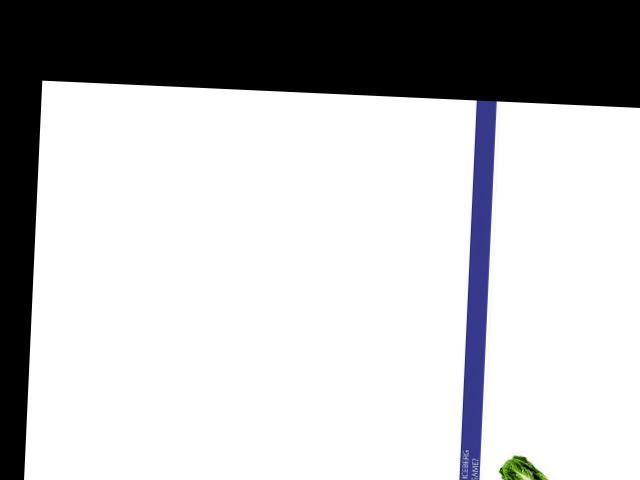lettuce: (490, 456, 577, 480)
